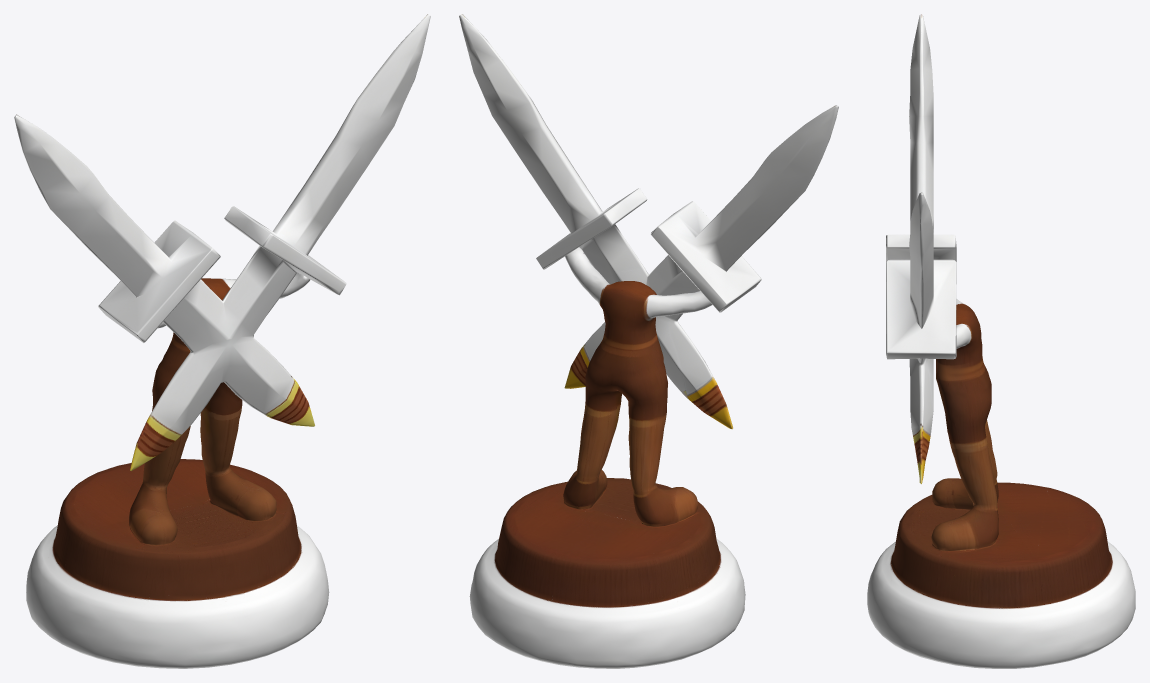
The model's file is award_nemesis.glb.
3 renders of one model, left to right at view 1: azimuth 30°, elevation 25°; view 2: azimuth 150°, elevation 25°; view 3: azimuth 270°, elevation 25°, orthographic. The views are drawn at different scales.
Bounding box in the file's own units: 1.44 × 1.91 × 0.9041.
1 material, 1 textured.
